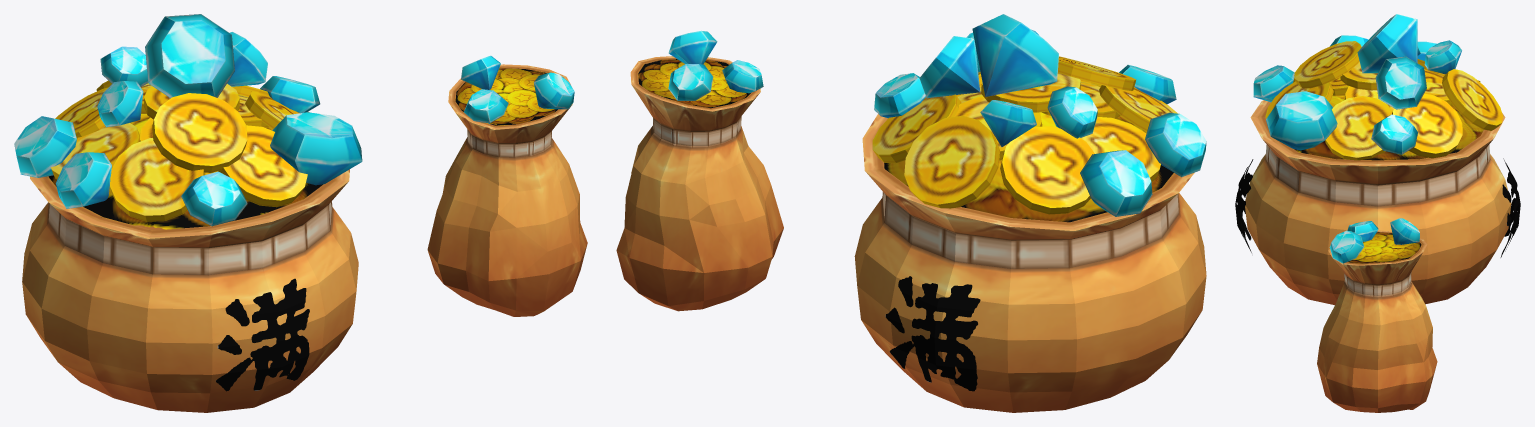
Rendered from GetCoin.FBX.
3 views of the same model, side by side, from view 1: azimuth 30°, elevation 25°; view 2: azimuth 150°, elevation 25°; view 3: azimuth 270°, elevation 25° (orthographic). The views are drawn at different scales.
Visible parts, largest first — view 1: Object007, Object008; view 2: Object007, Object008; view 3: Object007, Object008.
Boxes of the visible parts, left/top/right/bottom form: Object007: left=14, top=14, right=362, bottom=412; Object008: left=427, top=55, right=587, bottom=316; Object007: left=854, top=14, right=1206, bottom=412; Object008: left=616, top=30, right=783, bottom=311; Object007: left=1235, top=14, right=1520, bottom=305; Object008: left=1317, top=218, right=1437, bottom=412.
Bounding box in the file's own units: 187 × 118 × 111.
